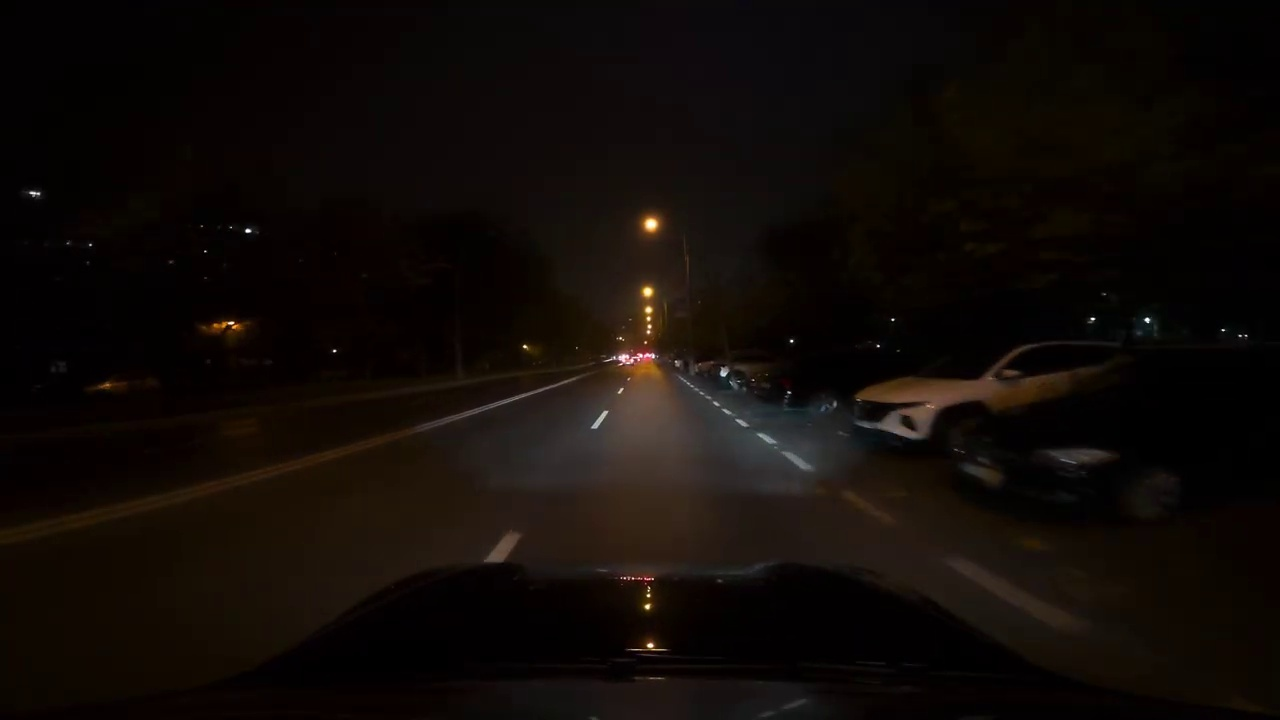acesa: (637, 212, 665, 239)
